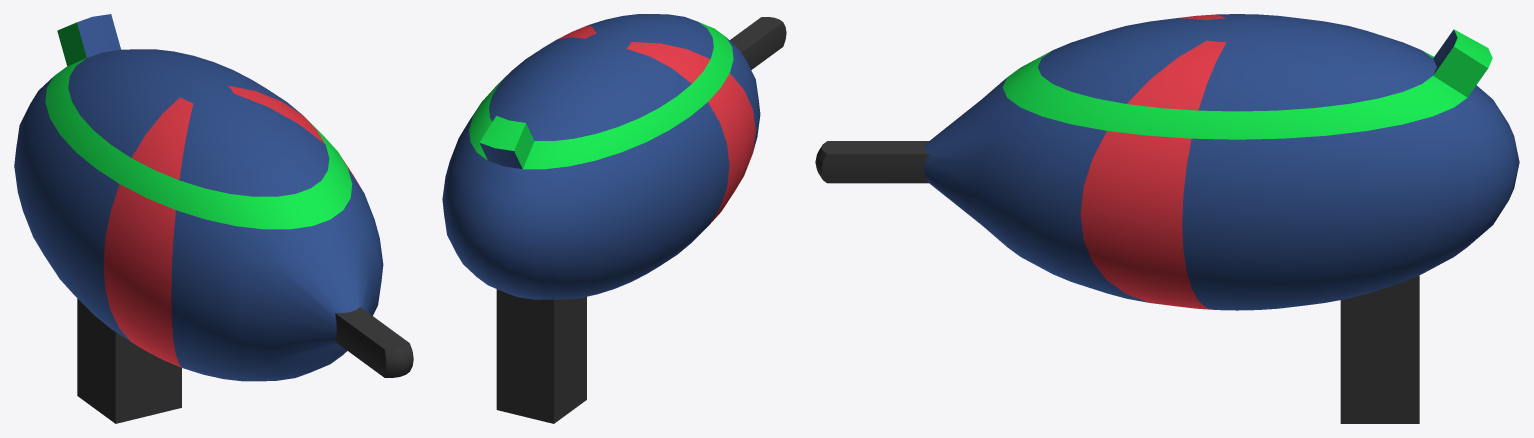
The model's file is enemy1.fbx.
The picture shows the model from 3 angles, left to right: view 1: azimuth 30°, elevation 25°; view 2: azimuth 150°, elevation 25°; view 3: azimuth 270°, elevation 25°; orthographic projection. The views are drawn at different scales.
Parts seen in each view (by area): view 1: Sphere, Cube; view 2: Sphere, Cube; view 3: Sphere, Cube.
Boxes of the visible parts, x1=… form: Sphere: x1=14, y1=14, x2=413, y2=381; Cube: x1=77, y1=298, x2=181, y2=423; Sphere: x1=442, y1=14, x2=786, y2=299; Cube: x1=496, y1=289, x2=586, y2=423; Sphere: x1=815, y1=14, x2=1519, y2=310; Cube: x1=1340, y1=275, x2=1419, y2=423.
Bounding box in the file's own units: 75 × 106 × 178.
